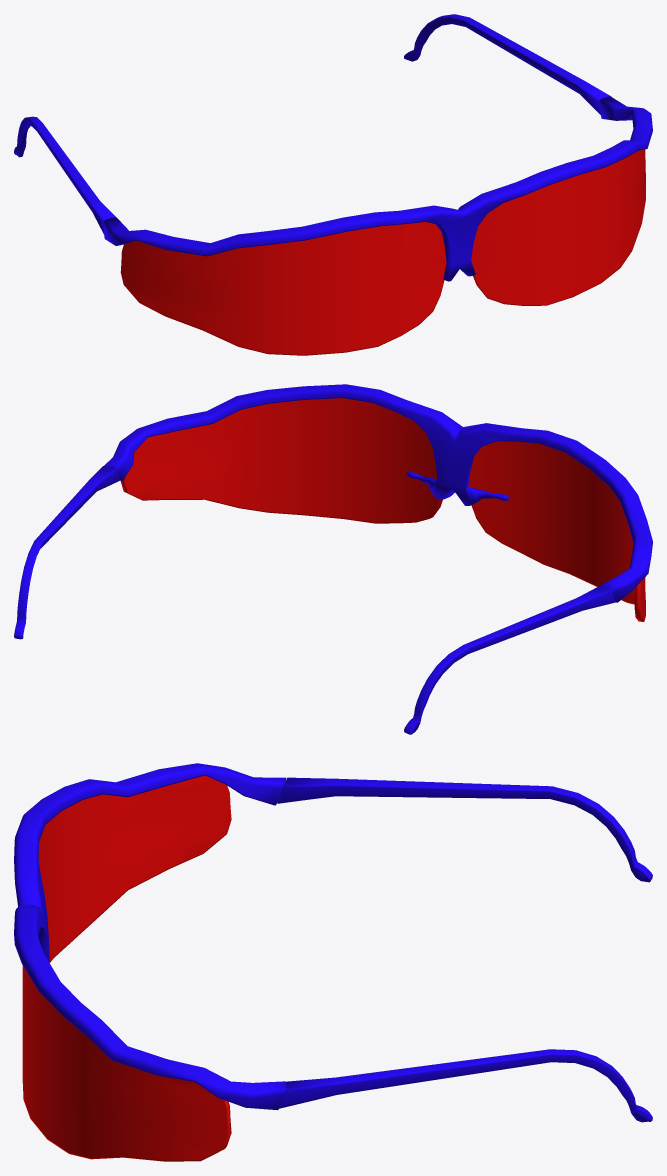
File: Safety_Glasses.obj
3 views of the same model, one above another, from view 1: azimuth 30°, elevation 25°; view 2: azimuth 150°, elevation 25°; view 3: azimuth 270°, elevation 25° (orthographic). The views are drawn at different scales.
Visible parts, largest first — view 1: Glasses_Export; view 2: Glasses_Export; view 3: Glasses_Export.
Boxes of the visible parts, box(x1,y1,x2,y2) form: Glasses_Export: box(14, 14, 652, 355); Glasses_Export: box(14, 384, 652, 734); Glasses_Export: box(14, 763, 652, 1161).
Size of the model in its own units: 262 by 62.65 by 219.
